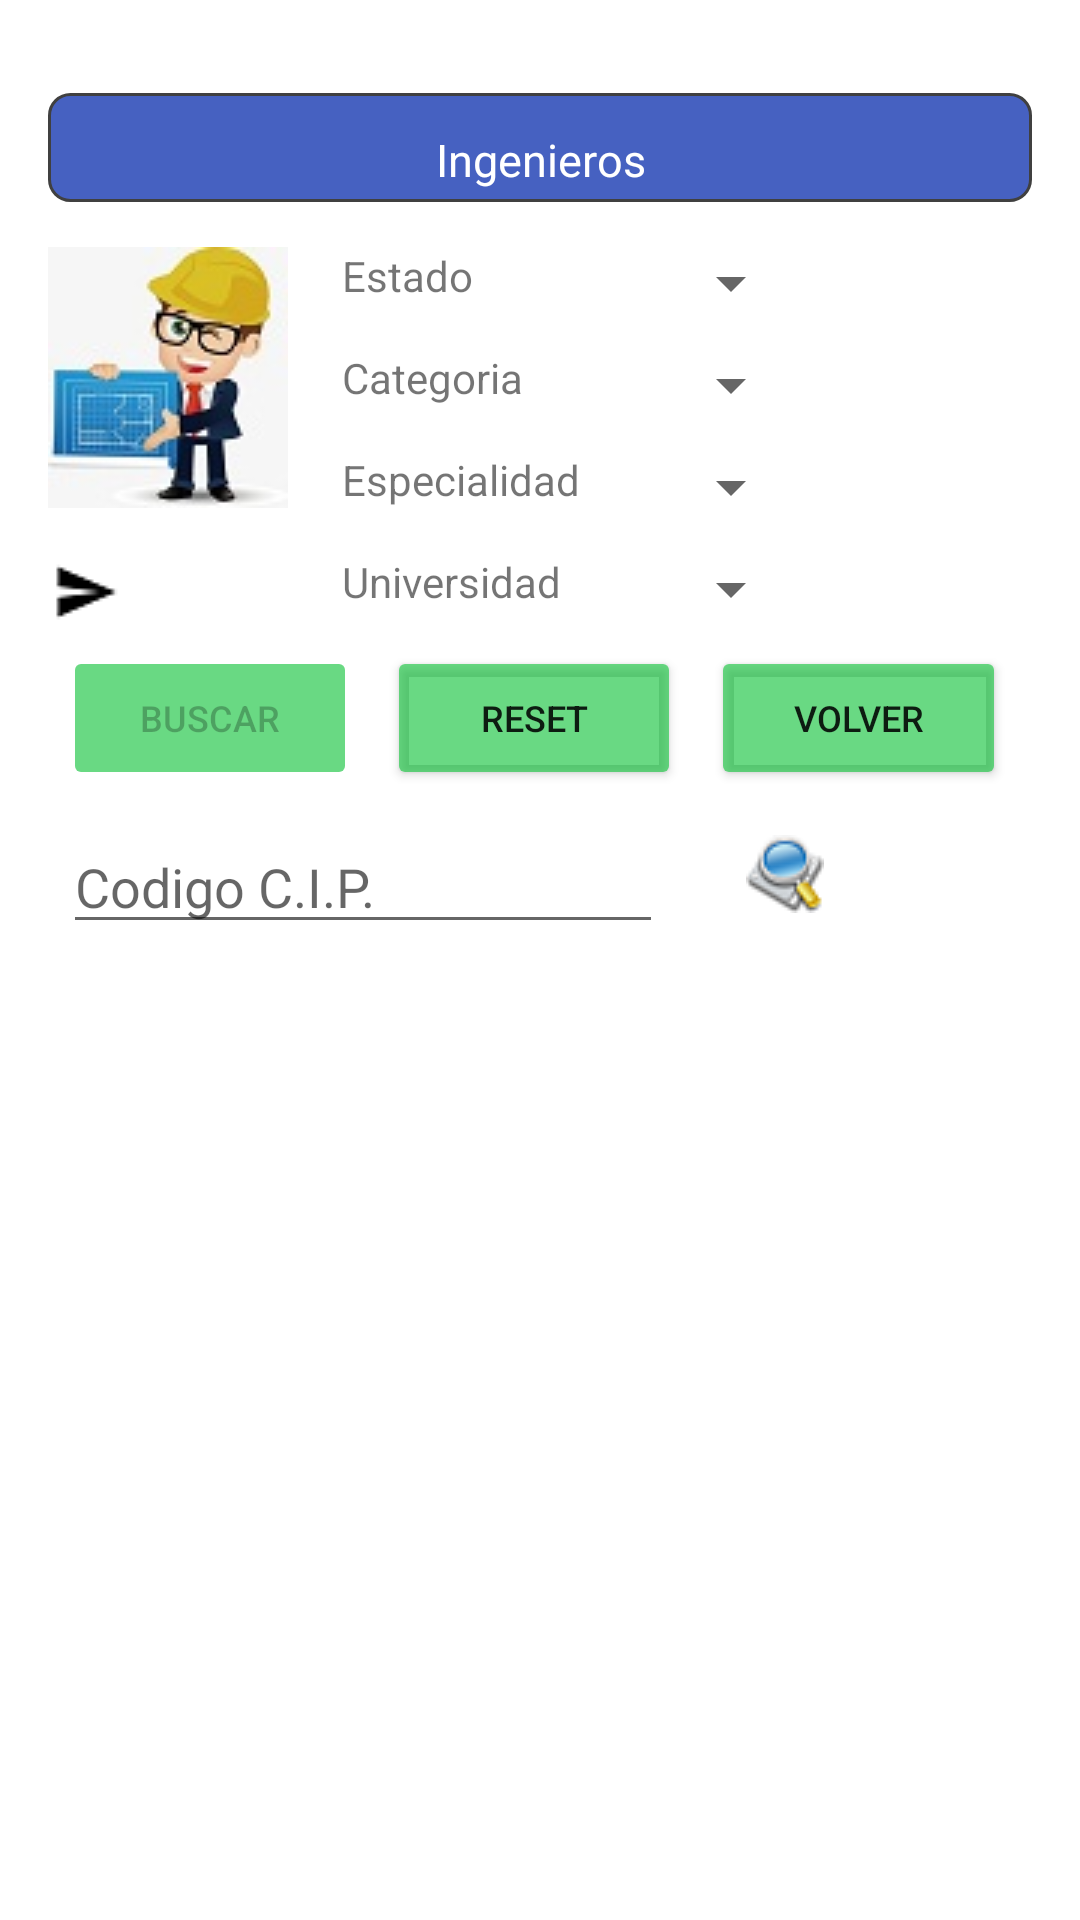

Screen size 1080x1920. Icon name, then its center in pixels as [x,y]:
buscar: [785,875]
siguiente: [85,592]
